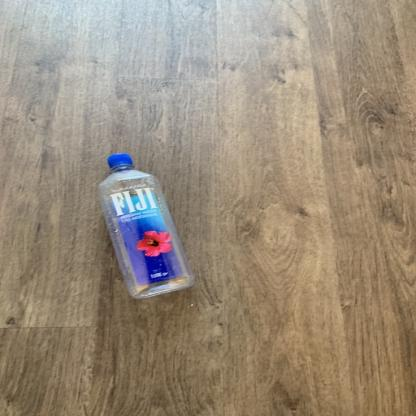trash: (94, 152, 198, 302)
